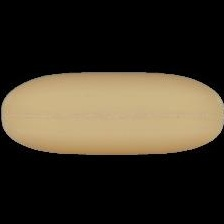0093-5655: (0, 0, 224, 224)
